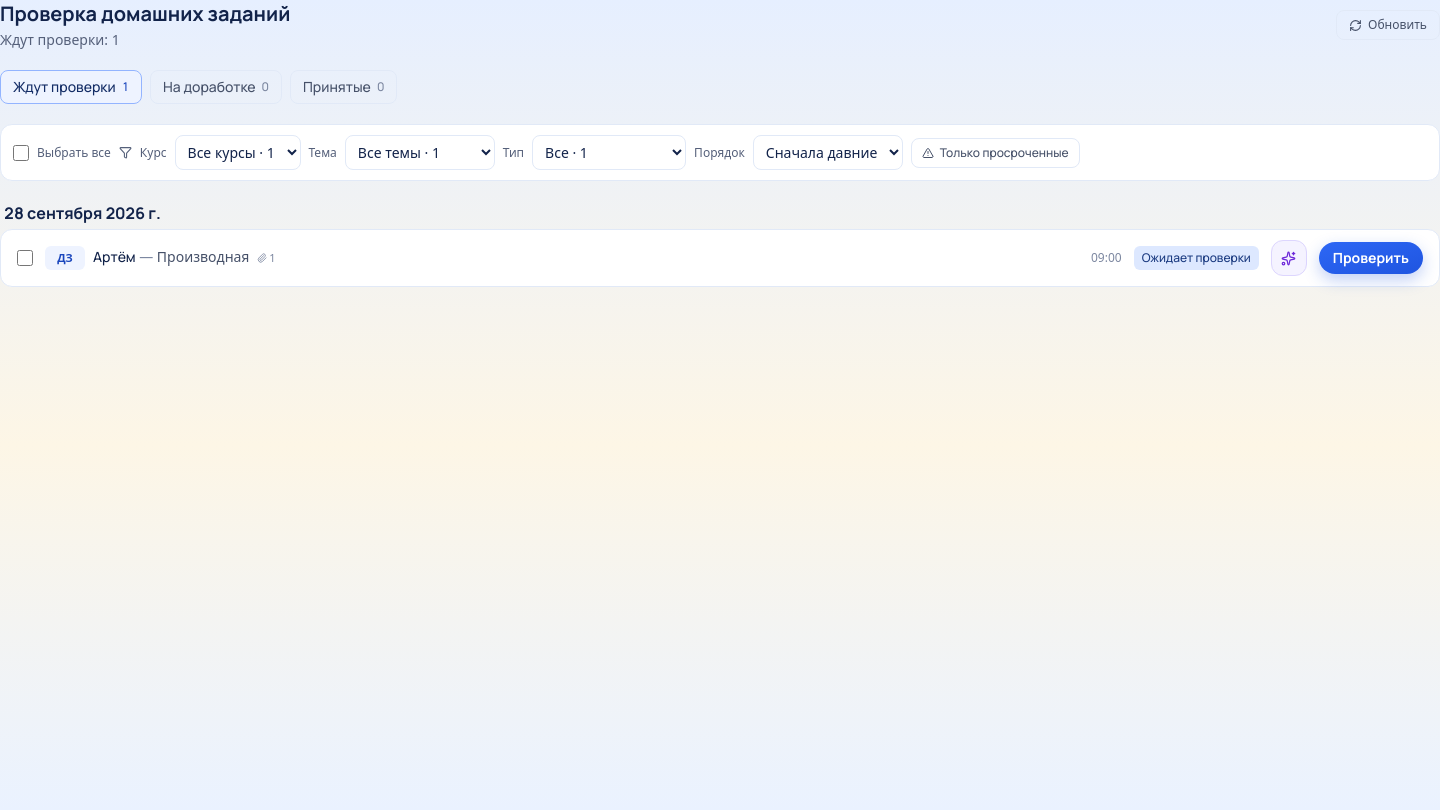
it: §252 — пометки ИИ уходят ученику при вердикте › подходящих находок нет — строки над вердиктом нет
Click the text "Артём". click: (114, 256)
box: 93,247 -> 136,266
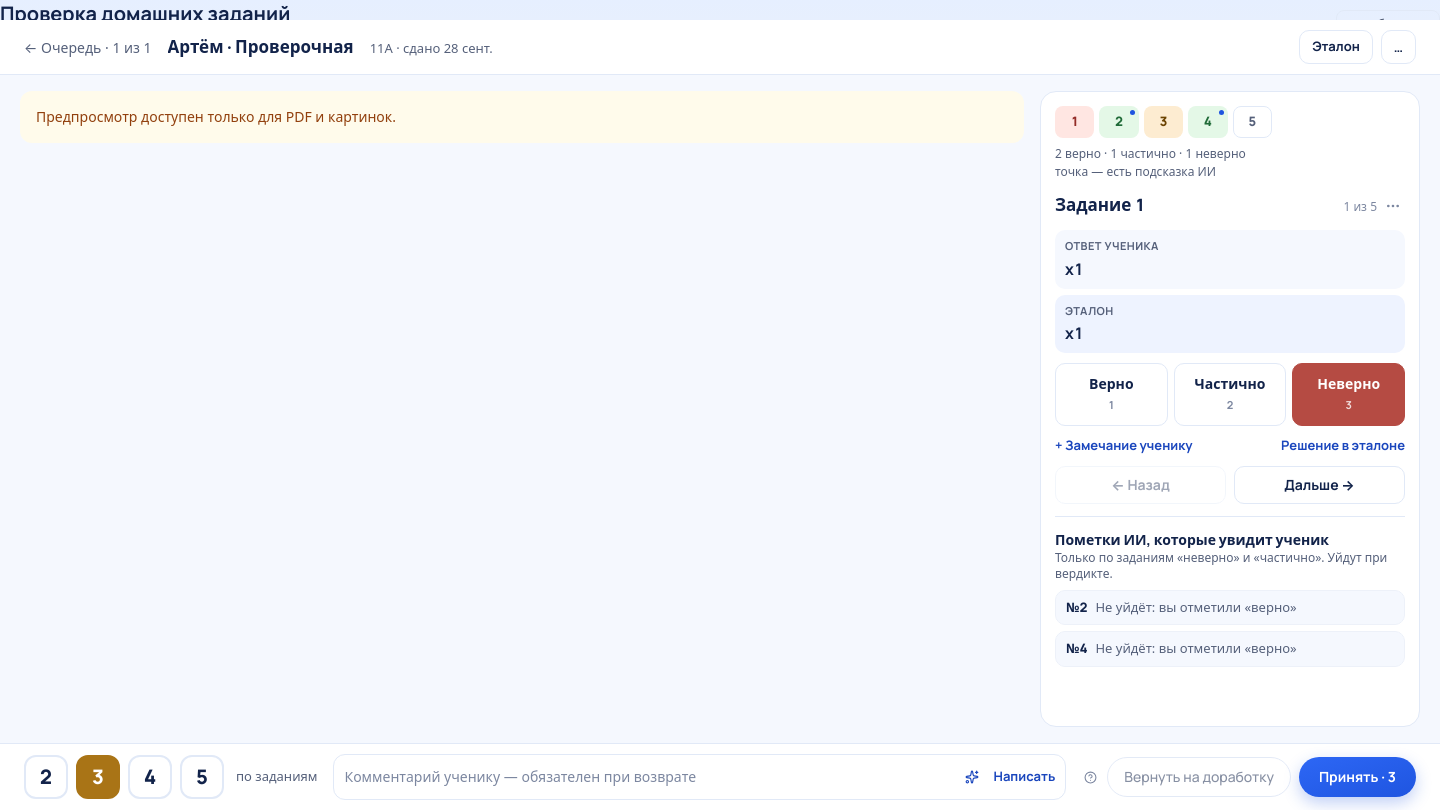
Result: the number of list items with test id "ai-marks-dropped" is 2 at 1055,590 -> 1405,625; 1055,631 -> 1405,667
